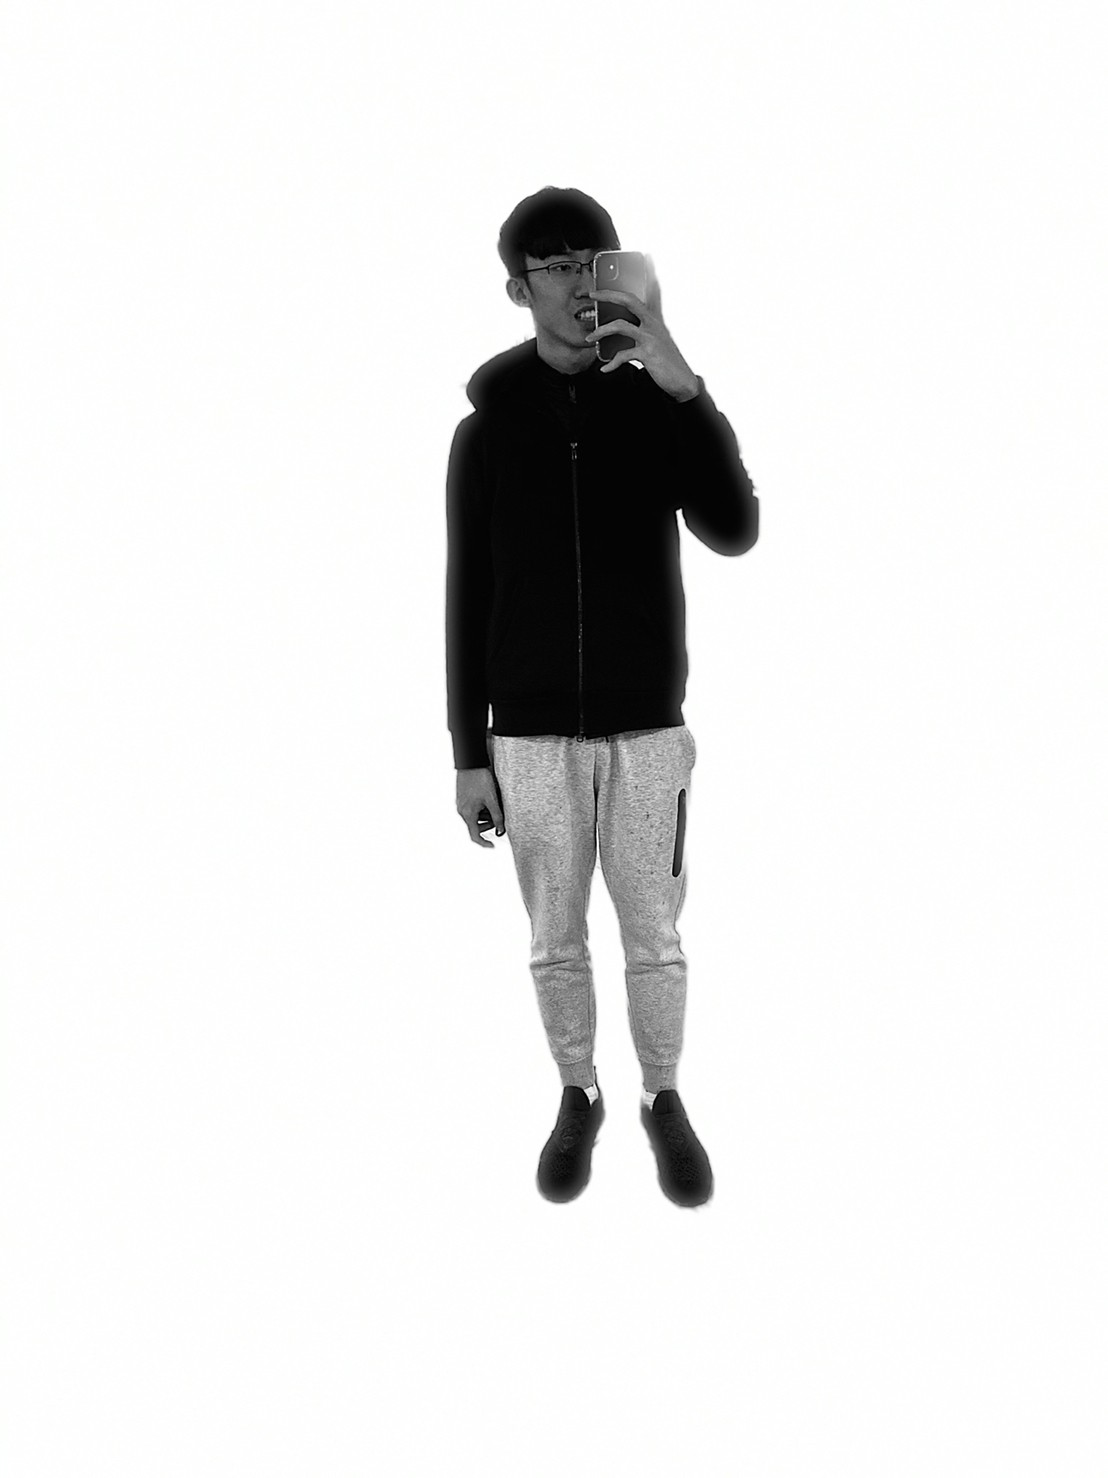people: (438, 207, 762, 1235)
